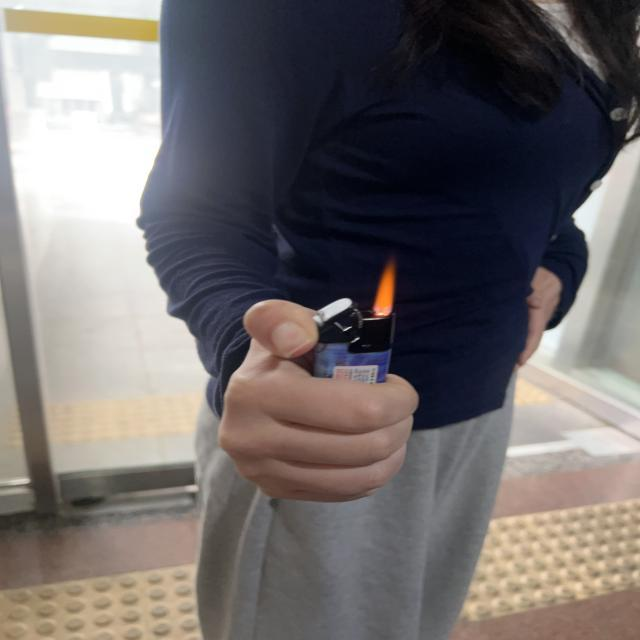fire: (374, 264, 398, 312)
